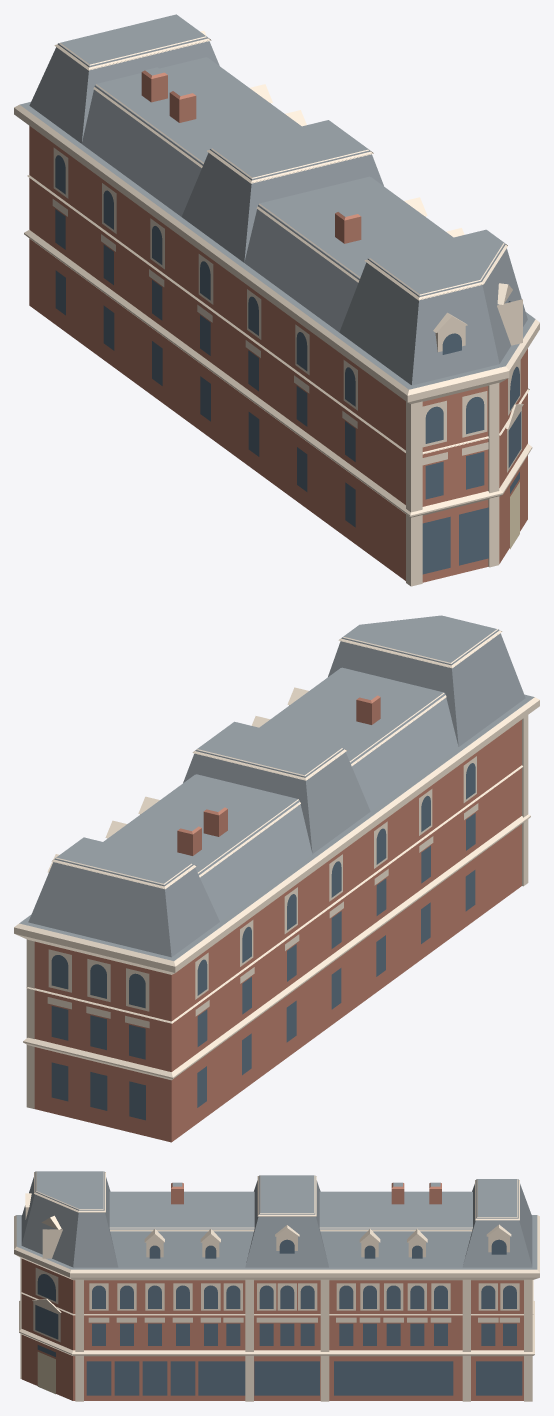
Rendered from cola-sylvan-building.glb.
3 renders of one model, top to bottom at view 1: azimuth 30°, elevation 25°; view 2: azimuth 150°, elevation 25°; view 3: azimuth 270°, elevation 25°, orthographic. The views are drawn at different scales.
Parts seen in each view (by area): view 1: Sylvan Building; view 2: Sylvan Building; view 3: Sylvan Building.
Part boxes in pixels (x1,y1,x2,y2): Sylvan Building: (14,14,539,586); Sylvan Building: (14,615,539,1142); Sylvan Building: (14,1171,539,1401).
Size of the model in its own units: 12.5 by 19.05 by 48.9.
